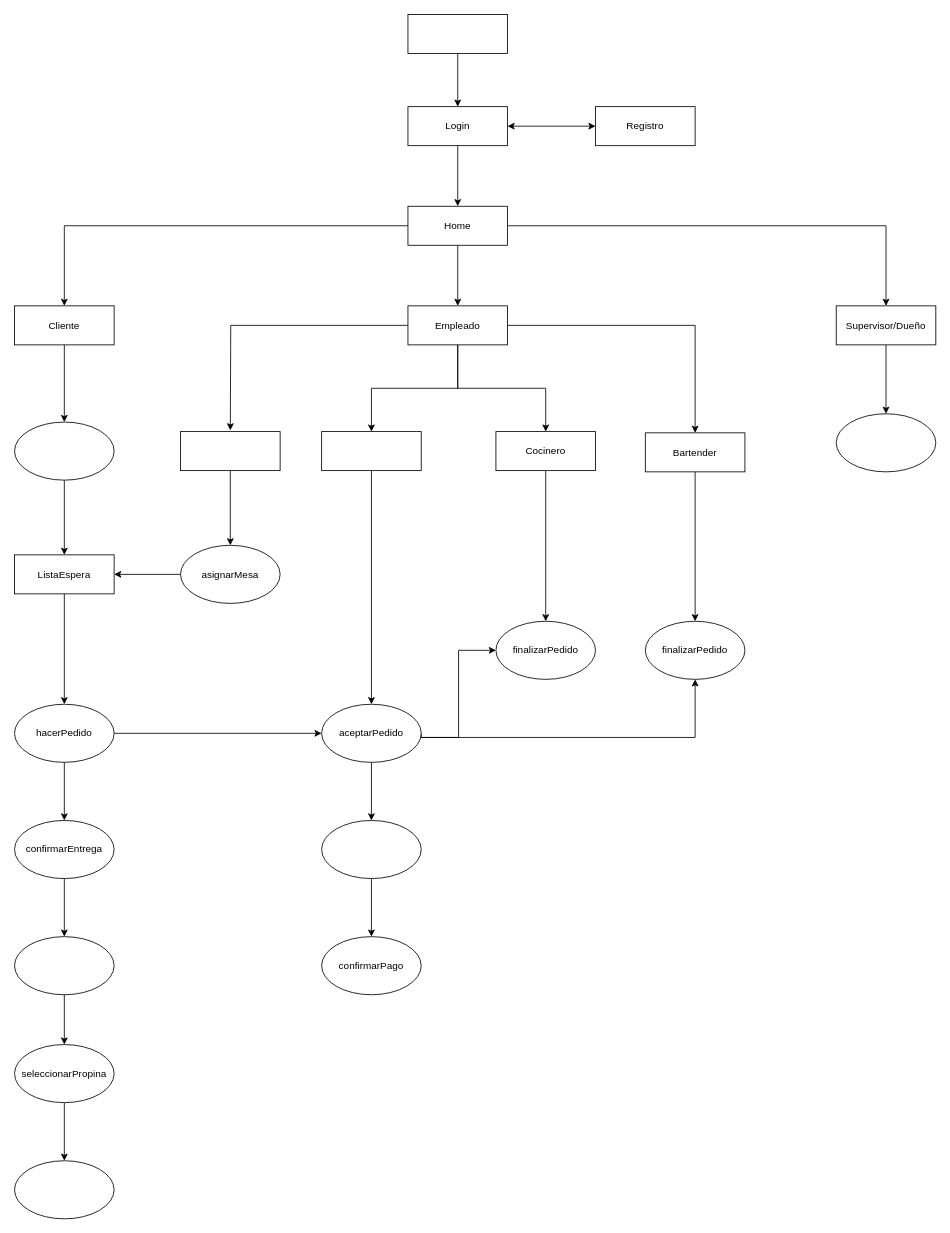
This 950x1233 diagram has some shape labels left out. The shapes that lost their labels are listed below. From the top down, each one's box as (x1, y1, x2, y2) in pixels, then its label:
(407, 14, 508, 54): IngresoApp
(14, 421, 114, 480): escanearQR
(180, 431, 280, 471): Metre
(321, 431, 421, 471): Mozo
(835, 413, 936, 472): habilitarCliente/ rechazarCliente
(321, 820, 421, 879): entregarPedido
(14, 936, 114, 995): pedirCuenta
(14, 1160, 114, 1219): realizarPago
